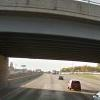Bridge: (2, 1, 98, 70)
